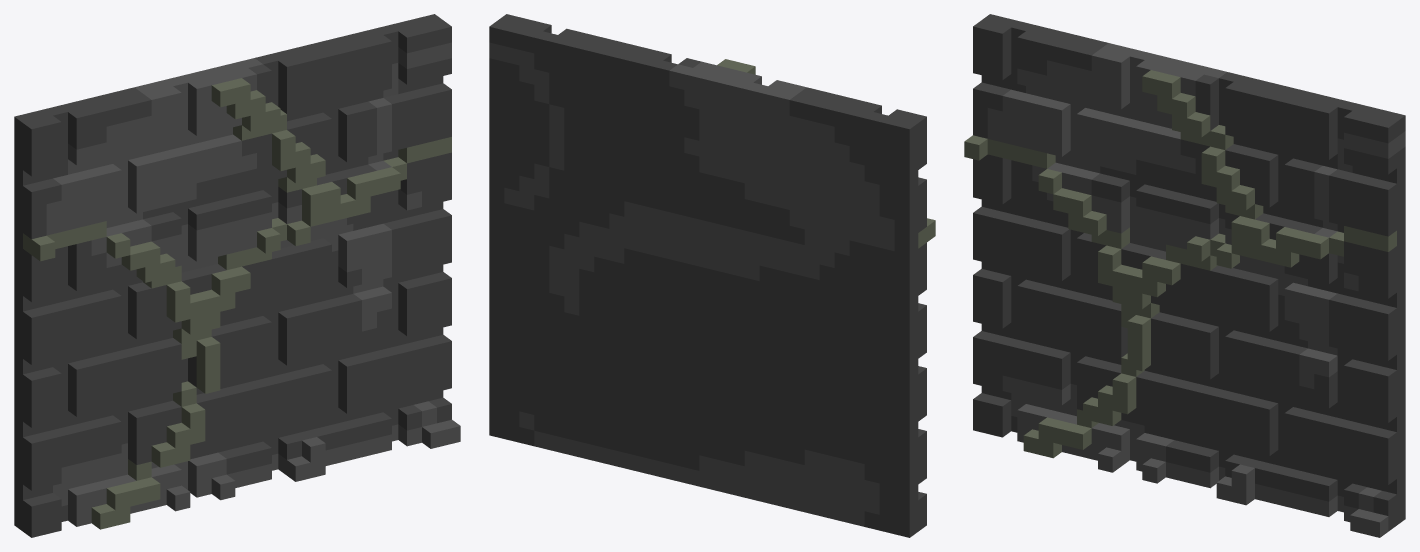
Rendered from Stenka1-32.obj.
3 renders of one model, left to right at view 1: azimuth 30°, elevation 25°; view 2: azimuth 150°, elevation 25°; view 3: azimuth 330°, elevation 25°, orthographic.
Bounding box in the file's own units: 2.8 × 2.6 × 0.3.
1 material, 1 textured.
